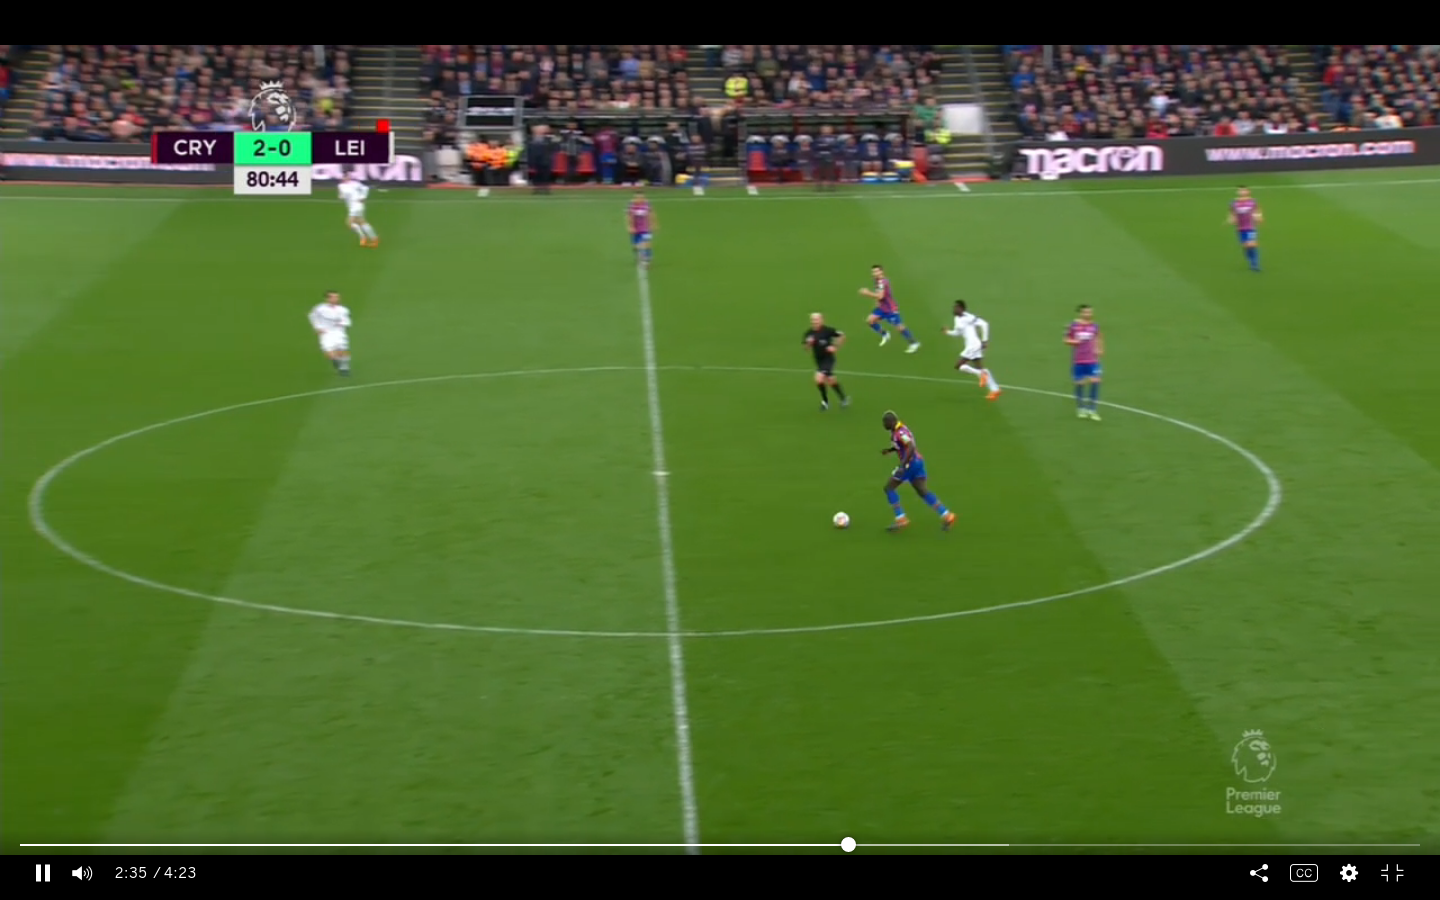referee: (792, 302, 853, 417)
soccer player: (879, 405, 942, 539), (1056, 300, 1112, 426), (941, 294, 999, 402), (304, 285, 361, 379), (867, 263, 915, 359), (330, 171, 382, 251), (1222, 180, 1264, 280), (621, 188, 658, 269)
soccerball: (824, 506, 855, 534)
